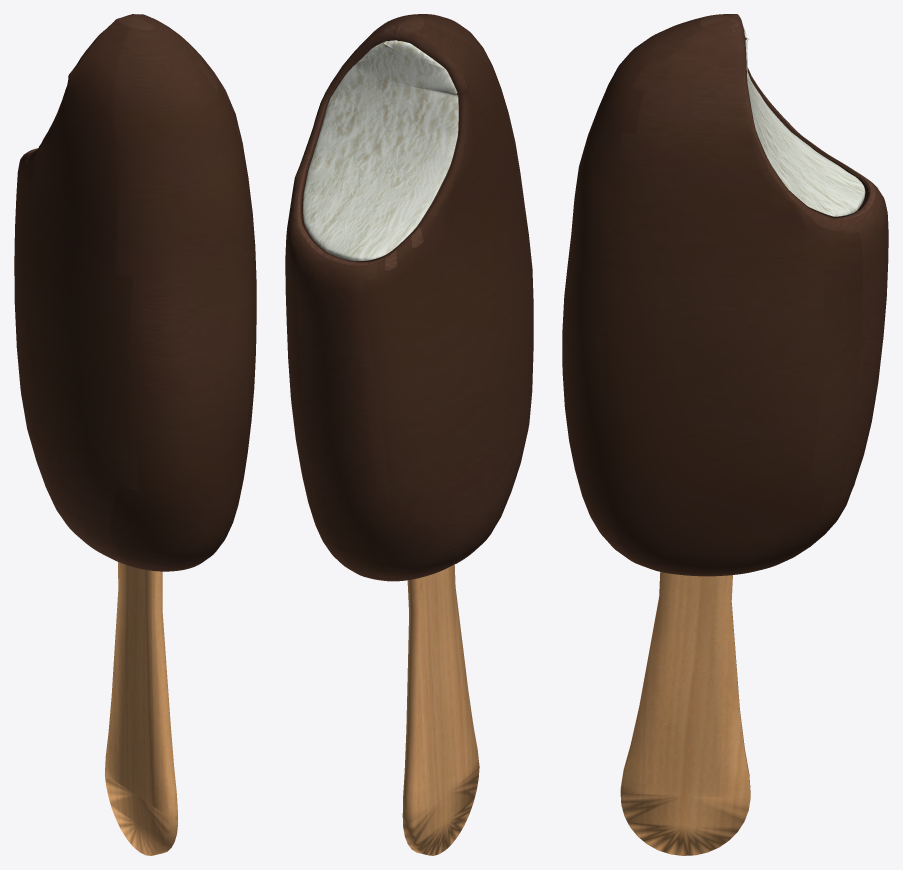
The picture shows the model from 3 angles, left to right: view 1: azimuth 30°, elevation 25°; view 2: azimuth 150°, elevation 25°; view 3: azimuth 270°, elevation 25°; orthographic projection. The views are drawn at different scales.
Parts seen in each view (by area): view 1: dondurma_0, Circle_1; view 2: dondurma_0, object 3, Circle_1; view 3: dondurma_0, Circle_1, object 3.
Part boxes in pixels (box(x1,y1,x2,y2)): dondurma_0: box(14, 14, 256, 571); Circle_1: box(105, 562, 177, 855); dondurma_0: box(285, 14, 533, 581); object 3: box(303, 40, 458, 260); Circle_1: box(402, 564, 479, 855); dondurma_0: box(562, 14, 888, 576); Circle_1: box(620, 572, 750, 855); object 3: box(743, 27, 865, 216).
Size of the model in its own units: 0.6611 by 3.05 by 1.07.
Materials: 3 (3 with a texture image).
